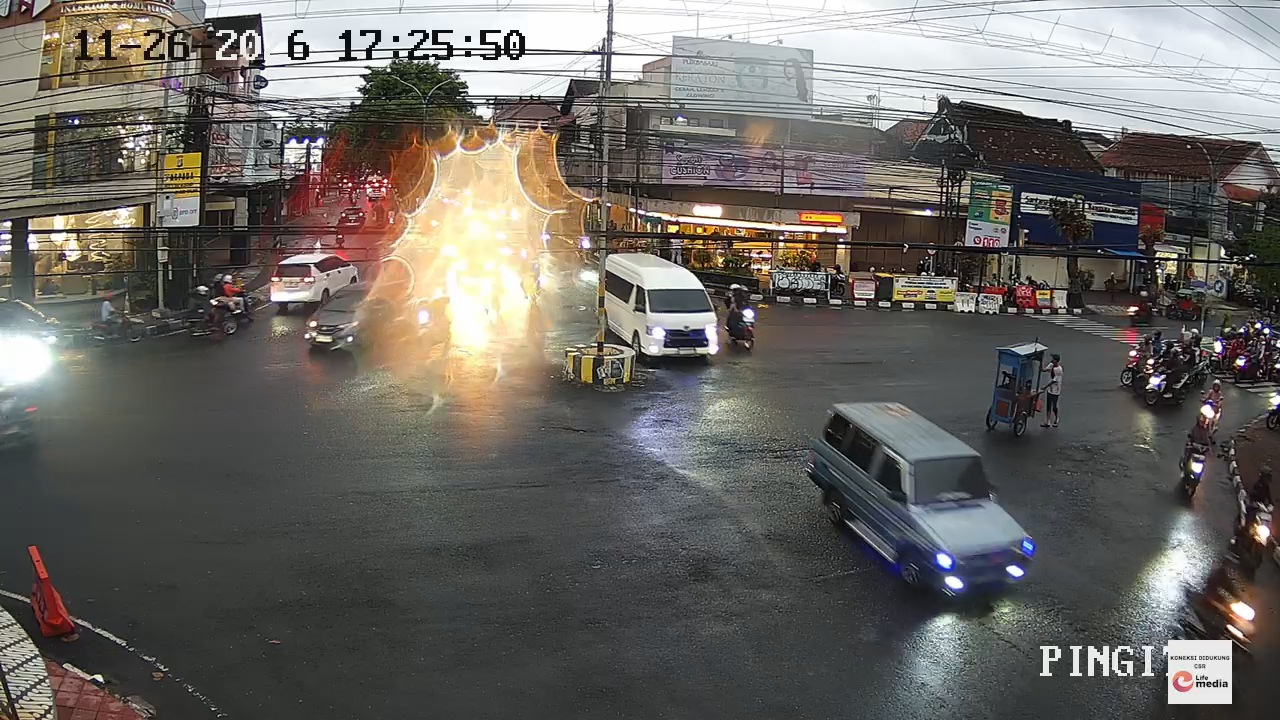Gerobak: (984, 339, 1050, 435)
